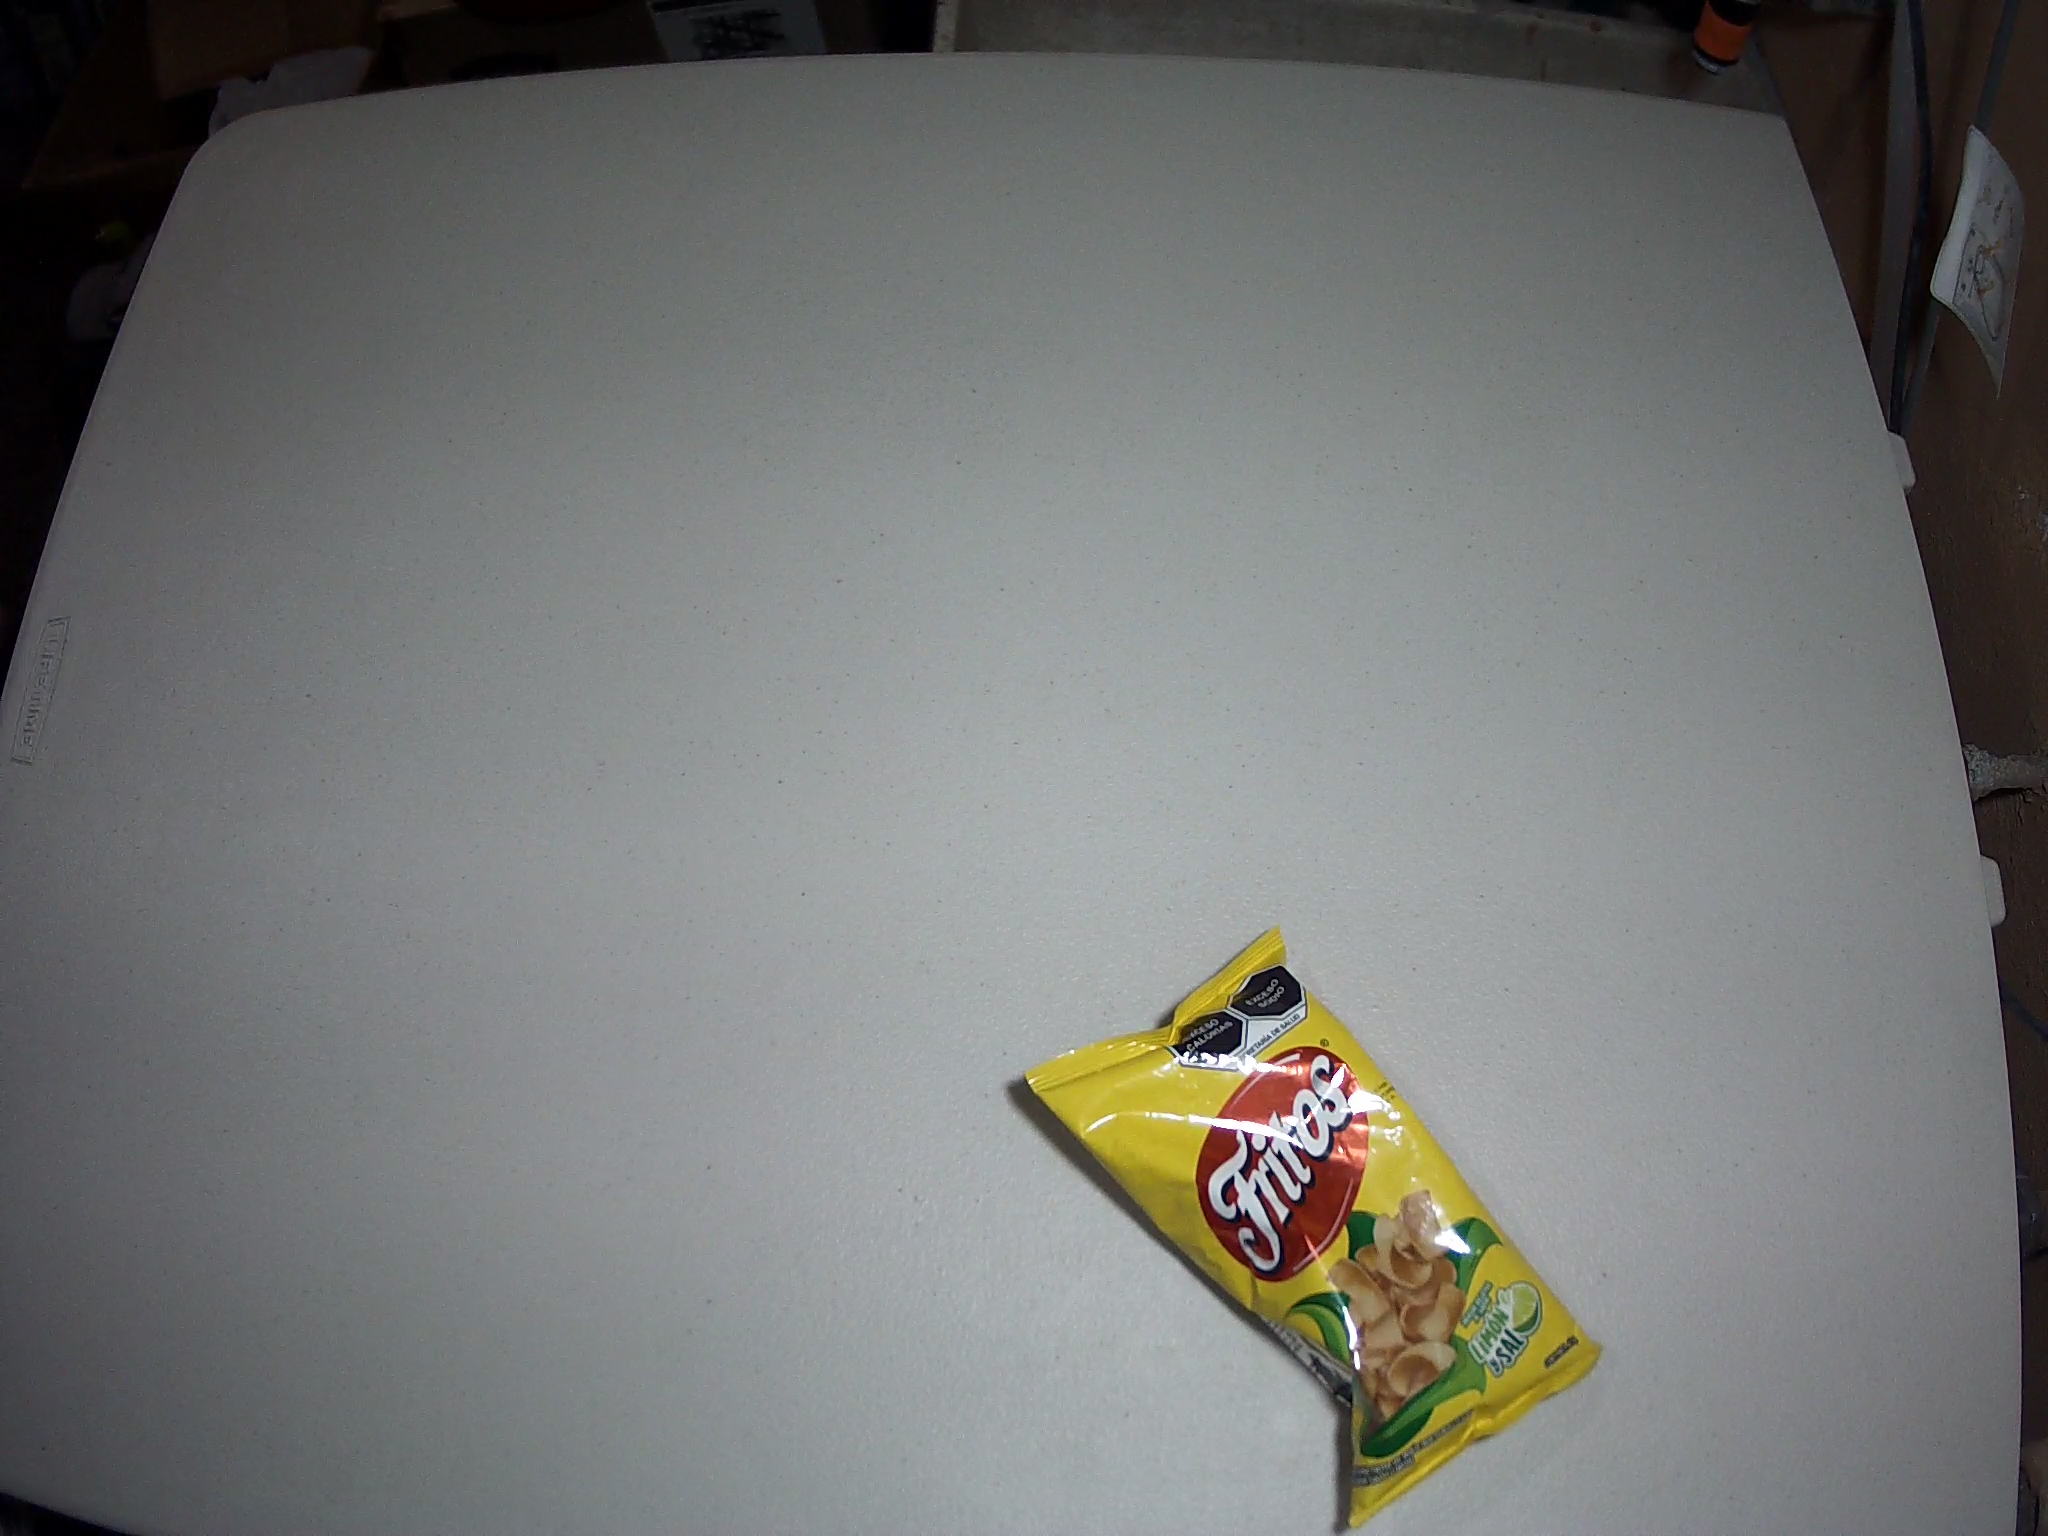FritosSalLimon_65_F: (1022, 925, 1606, 1533)
